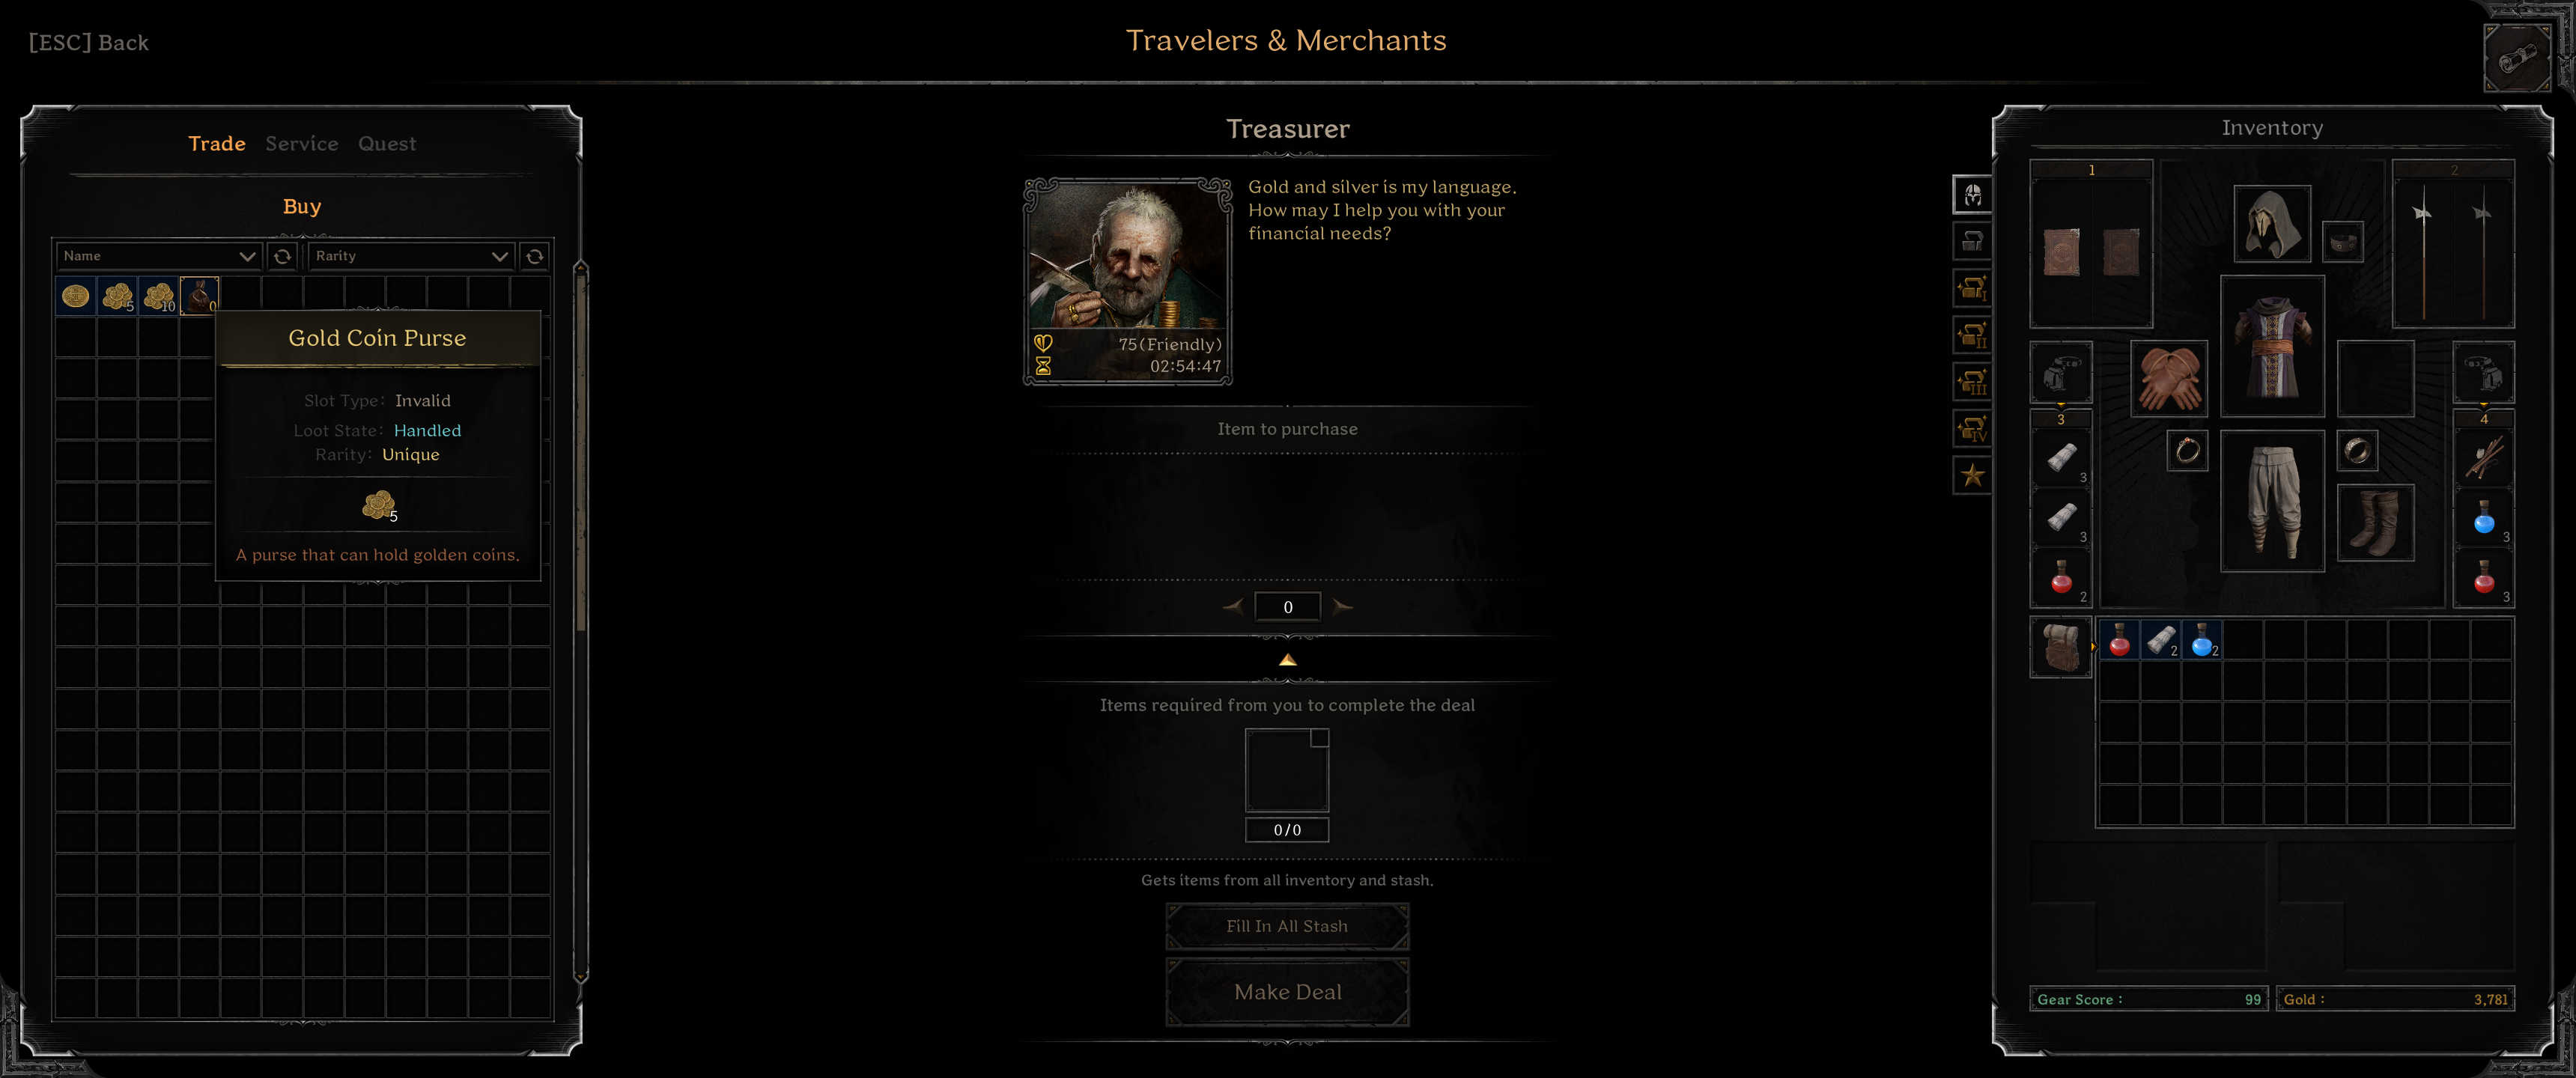Tooltip: (214, 307, 542, 583)
